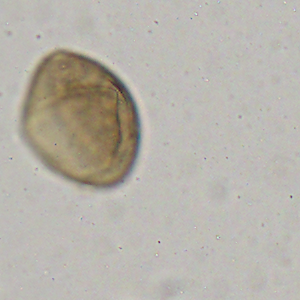Fasciola_hepatica_egg: (21, 46, 141, 189)
